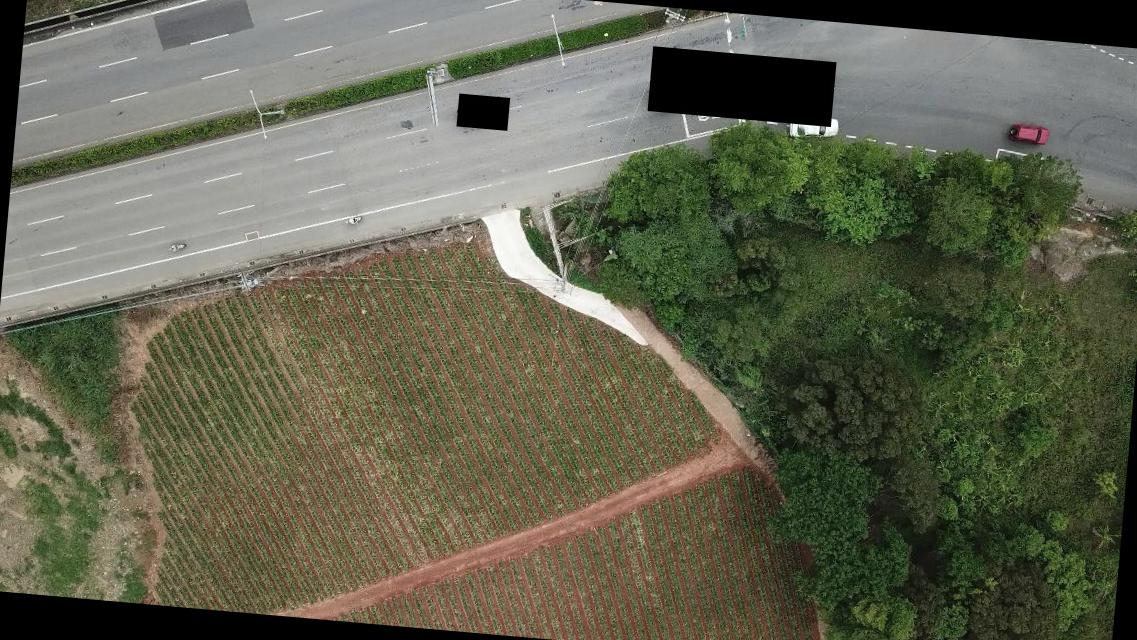vehicle: (784, 113, 839, 144), (1005, 122, 1051, 148)
